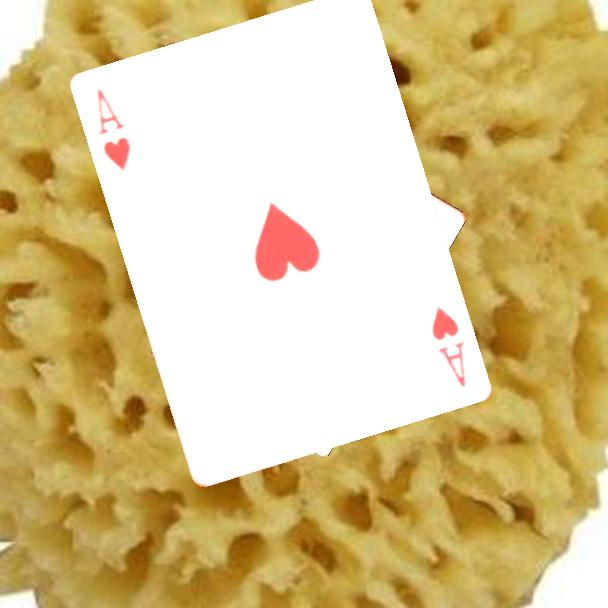h01: (92, 85, 133, 173), (427, 303, 468, 390)
